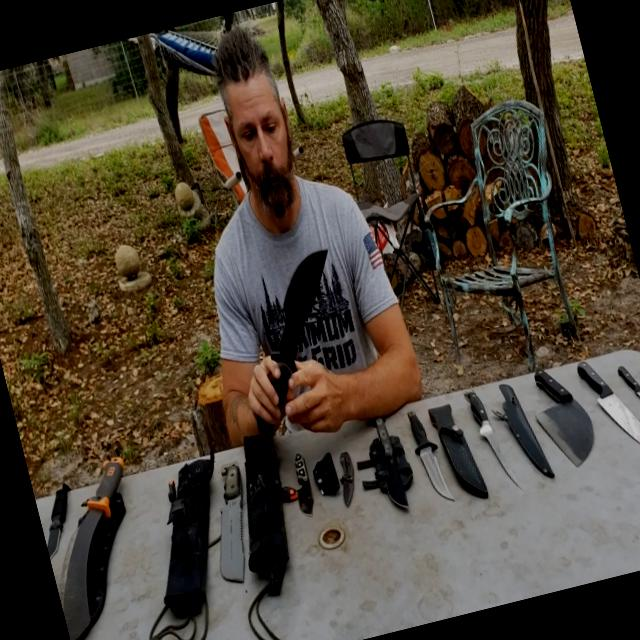knife: (211, 230, 370, 437), (23, 429, 168, 639), (506, 336, 606, 488), (184, 452, 274, 598), (564, 333, 639, 473), (458, 380, 530, 501), (393, 394, 465, 514), (27, 460, 89, 572), (364, 401, 413, 517), (278, 438, 325, 522), (326, 436, 367, 522), (608, 343, 639, 425)
